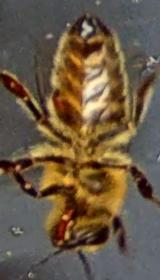varroa_mite: (48, 85, 76, 122)
